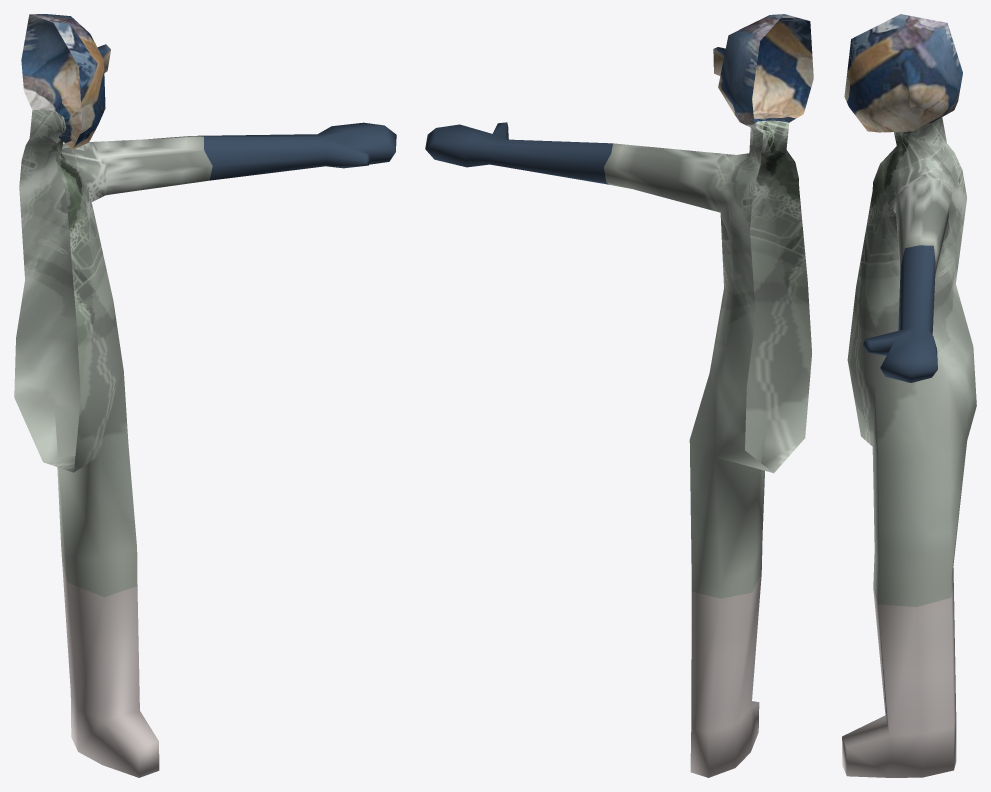
Rendered from player.gltf.
3 renders of one model, left to right at view 1: azimuth 30°, elevation 25°; view 2: azimuth 150°, elevation 25°; view 3: azimuth 270°, elevation 25°, orthographic. The views are drawn at different scales.
Parts seen in each view (by area): view 1: body; view 2: body; view 3: body.
Part boxes in pixels (left/top/right/bottom): body: left=14, top=14, right=396, bottom=777; body: left=425, top=14, right=813, bottom=777; body: left=842, top=14, right=976, bottom=777.
Bounding box in the file's own units: 2.2 × 4.52 × 0.7604.
2 materials, 2 textured.
